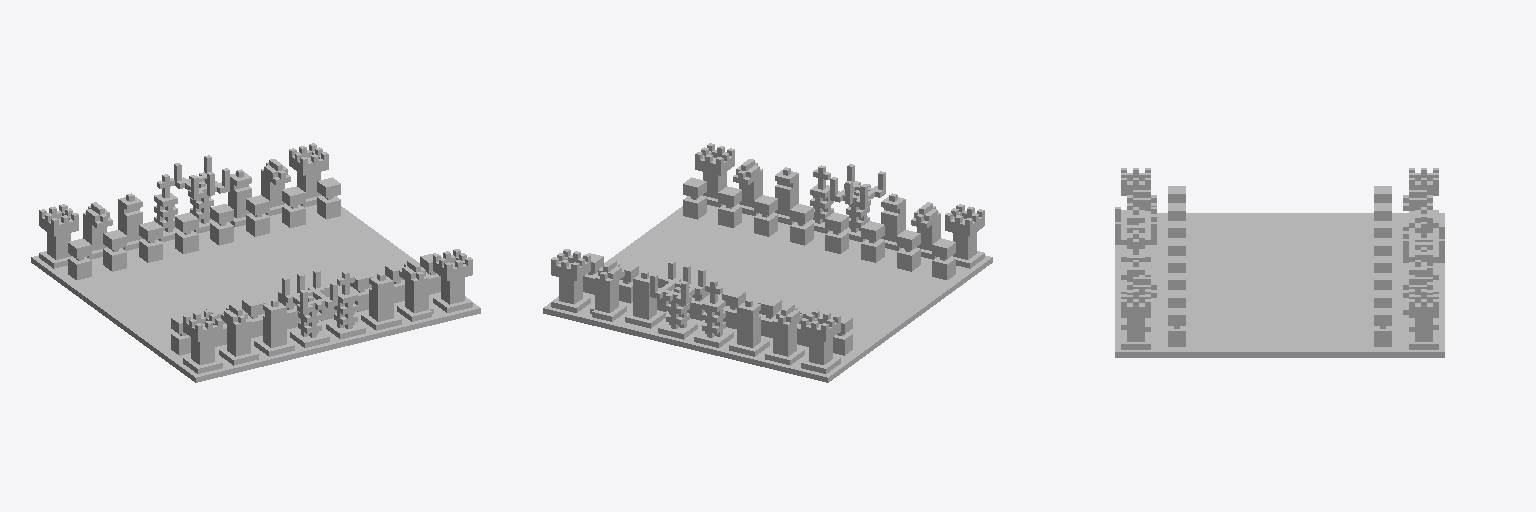
File: Chess Full Set.obj
3 renders of one model, left to right at view 1: azimuth 30°, elevation 25°; view 2: azimuth 150°, elevation 25°; view 3: azimuth 270°, elevation 25°, orthographic.
Bounding box in the file's own units: 56 × 12 × 56.